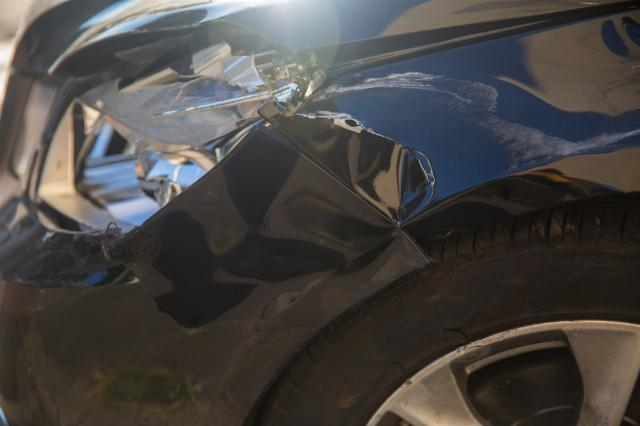dent: (158, 133, 397, 326), (282, 114, 436, 225)
lamp broken: (37, 30, 315, 235)
scratch: (311, 68, 640, 176)
